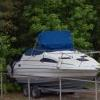Boat: (11, 36, 99, 90)
